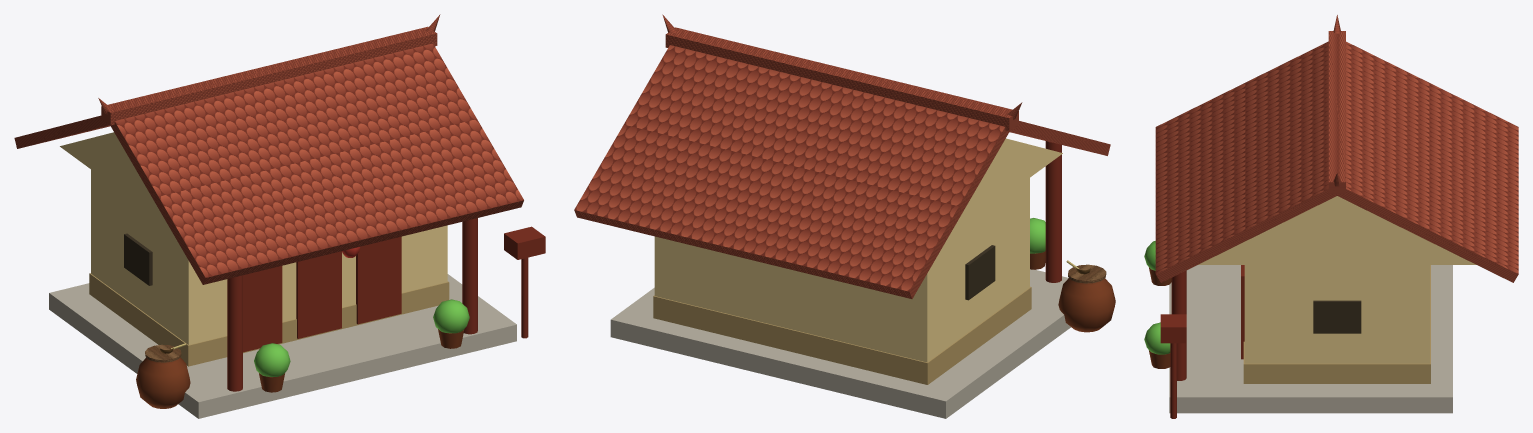
Rendered from nha_ngoi.glb.
3 views of the same model, side by side, from view 1: azimuth 30°, elevation 25°; view 2: azimuth 150°, elevation 25°; view 3: azimuth 270°, elevation 25° (orthographic). The views are drawn at different scales.
Visible parts, largest first — view 1: nha_ngoi; view 2: nha_ngoi; view 3: nha_ngoi.
Part boxes in pixels (x1,y1,x2,y2): nha_ngoi: (14,14,545,418); nha_ngoi: (574,14,1115,418); nha_ngoi: (1144,15,1518,418).
Size of the model in its own units: 1.89 by 1.25 by 1.72.
Materials: 12 (3 with a texture image).
